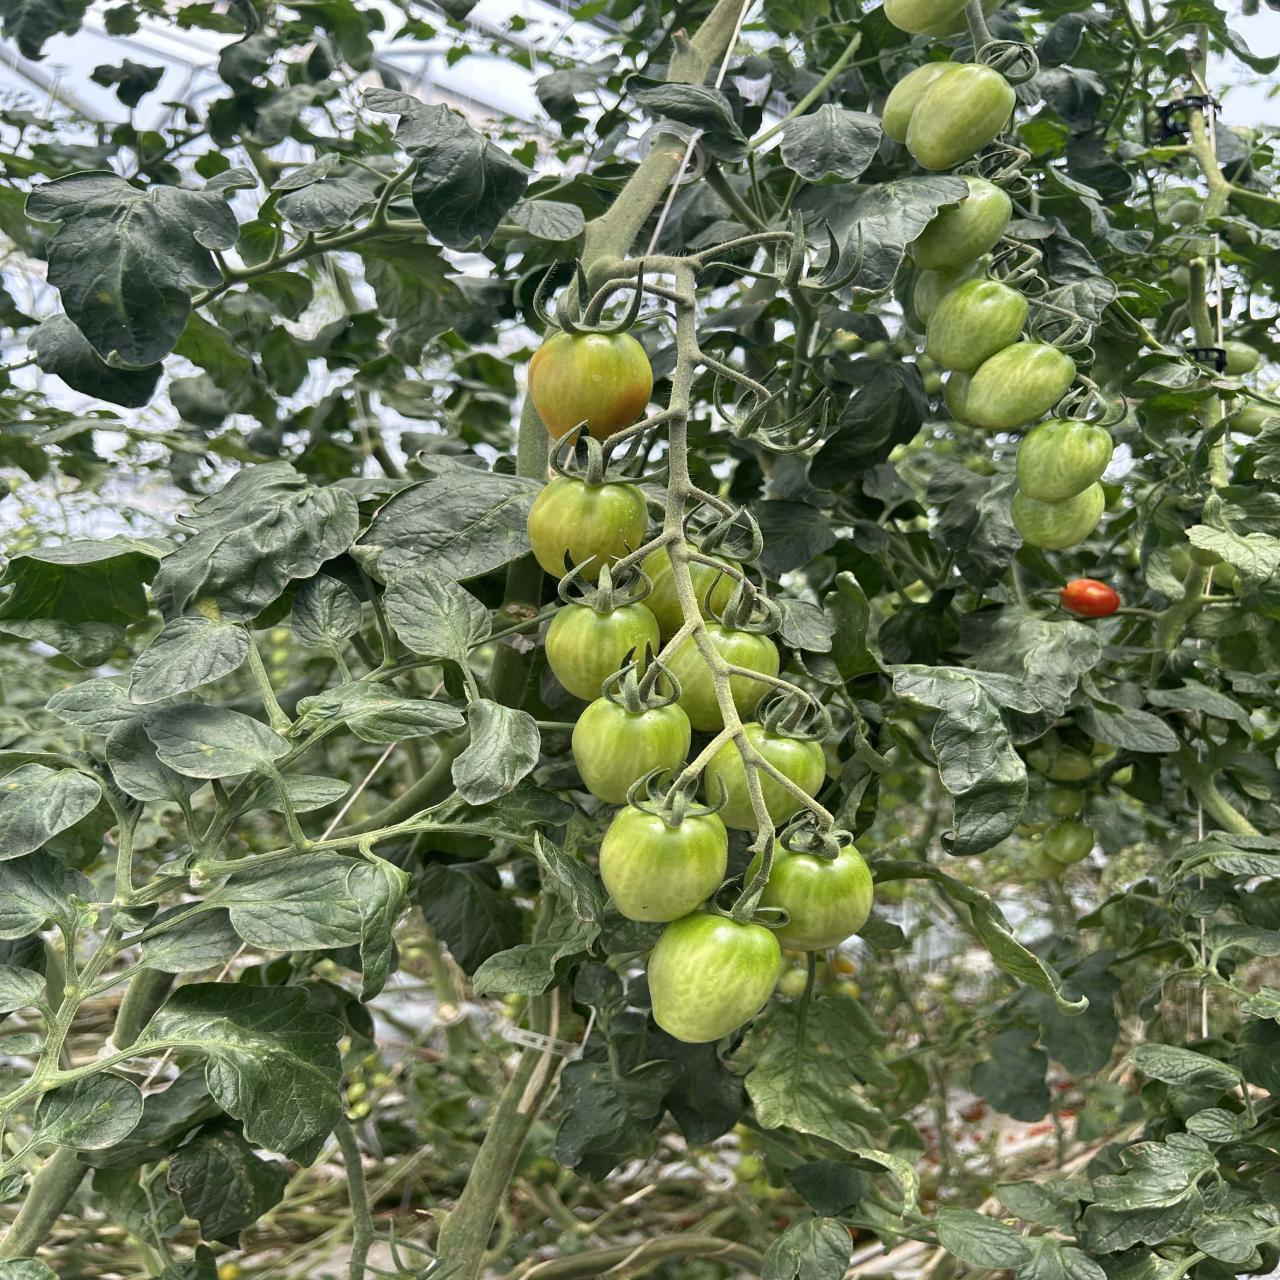Rugose leaf: (26, 171, 238, 375), (998, 1132, 1275, 1268), (141, 983, 342, 1158), (151, 461, 360, 622), (870, 860, 1088, 1015), (890, 665, 1037, 853), (363, 90, 527, 250), (358, 456, 544, 581), (740, 998, 893, 1148), (202, 850, 409, 958), (472, 837, 608, 996), (0, 537, 159, 666), (797, 176, 967, 292), (615, 1015, 748, 1145), (959, 605, 1104, 717), (556, 1057, 679, 1177), (168, 1122, 288, 1240), (360, 239, 472, 363), (27, 314, 162, 407), (417, 860, 524, 974), (144, 703, 293, 781), (382, 568, 491, 668), (129, 614, 251, 703), (298, 680, 464, 743), (0, 763, 101, 860), (451, 699, 540, 805), (631, 81, 747, 162), (105, 712, 205, 802), (0, 850, 100, 940), (45, 676, 190, 736), (33, 1073, 143, 1150), (1073, 675, 1179, 753), (779, 104, 881, 181), (291, 574, 362, 681), (137, 903, 243, 973), (278, 165, 384, 232), (824, 571, 878, 681), (761, 1217, 852, 1280), (1169, 831, 1280, 883), (937, 1207, 1029, 1268), (1185, 524, 1280, 583), (1126, 1043, 1244, 1090), (787, 1159, 871, 1217), (1148, 681, 1248, 721), (1015, 1237, 1107, 1280), (777, 597, 835, 653), (508, 199, 584, 241), (280, 774, 348, 812), (1185, 1108, 1252, 1144), (1210, 924, 1280, 955), (0, 965, 46, 1013), (1173, 881, 1225, 918), (257, 779, 281, 811)
Rugose stem: (595, 241, 833, 922), (436, 1060, 550, 1280), (581, 138, 681, 277), (667, 0, 748, 82), (380, 741, 461, 821), (517, 393, 553, 479), (489, 644, 537, 708), (498, 558, 544, 622)
Rugose tomato: (647, 910, 782, 1042), (600, 805, 727, 922), (529, 331, 653, 440), (572, 696, 690, 804), (527, 476, 649, 579), (761, 845, 873, 951), (906, 63, 1016, 170), (545, 602, 660, 701), (964, 341, 1075, 430), (926, 279, 1028, 372), (914, 178, 1012, 270), (1016, 420, 1114, 502), (1012, 482, 1104, 550), (881, 61, 960, 141), (743, 723, 825, 796), (914, 257, 988, 327), (699, 745, 756, 835), (669, 633, 721, 730), (704, 621, 779, 676), (642, 558, 682, 645), (690, 561, 735, 624), (884, 0, 965, 34), (760, 772, 803, 828), (730, 678, 768, 715)
